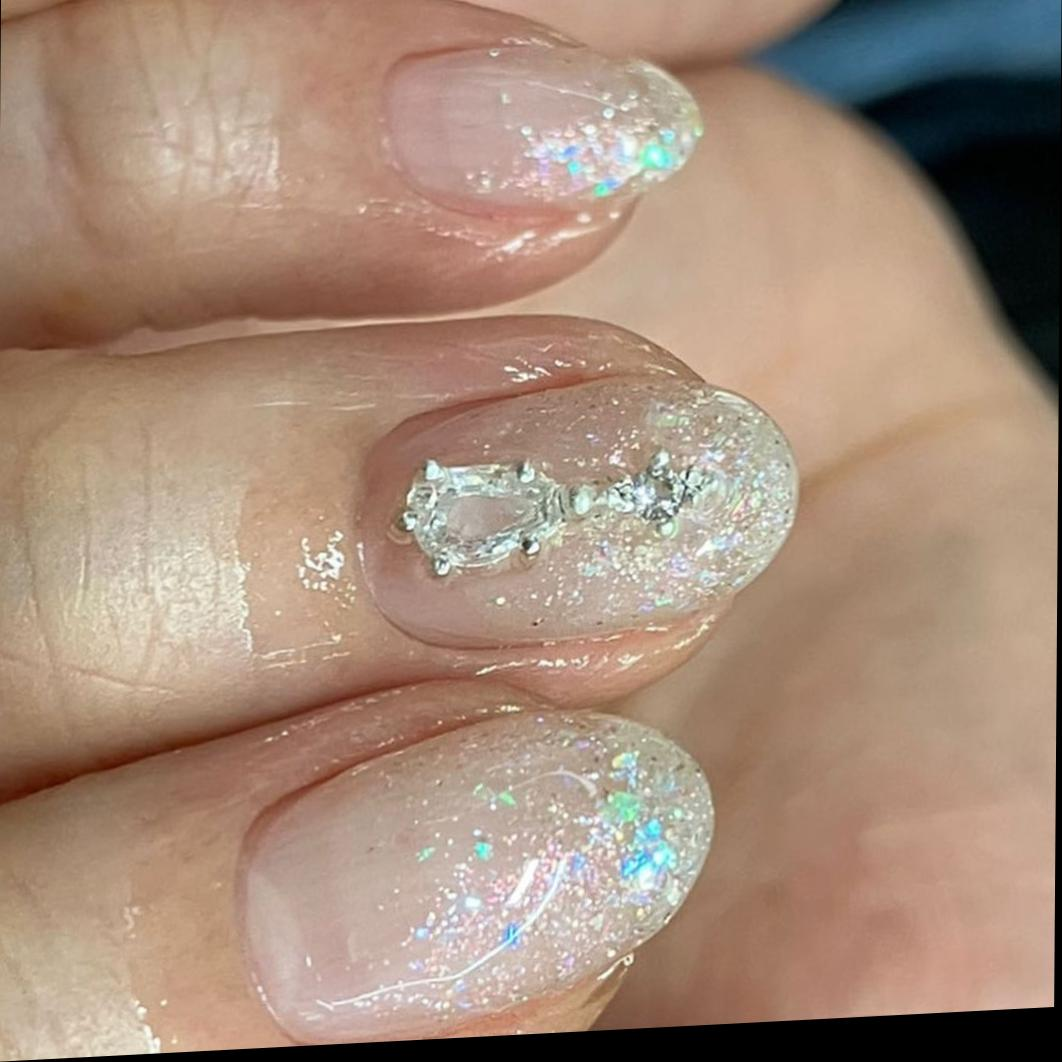nail: (236, 696, 719, 1049), (354, 363, 802, 655), (379, 28, 707, 230)
